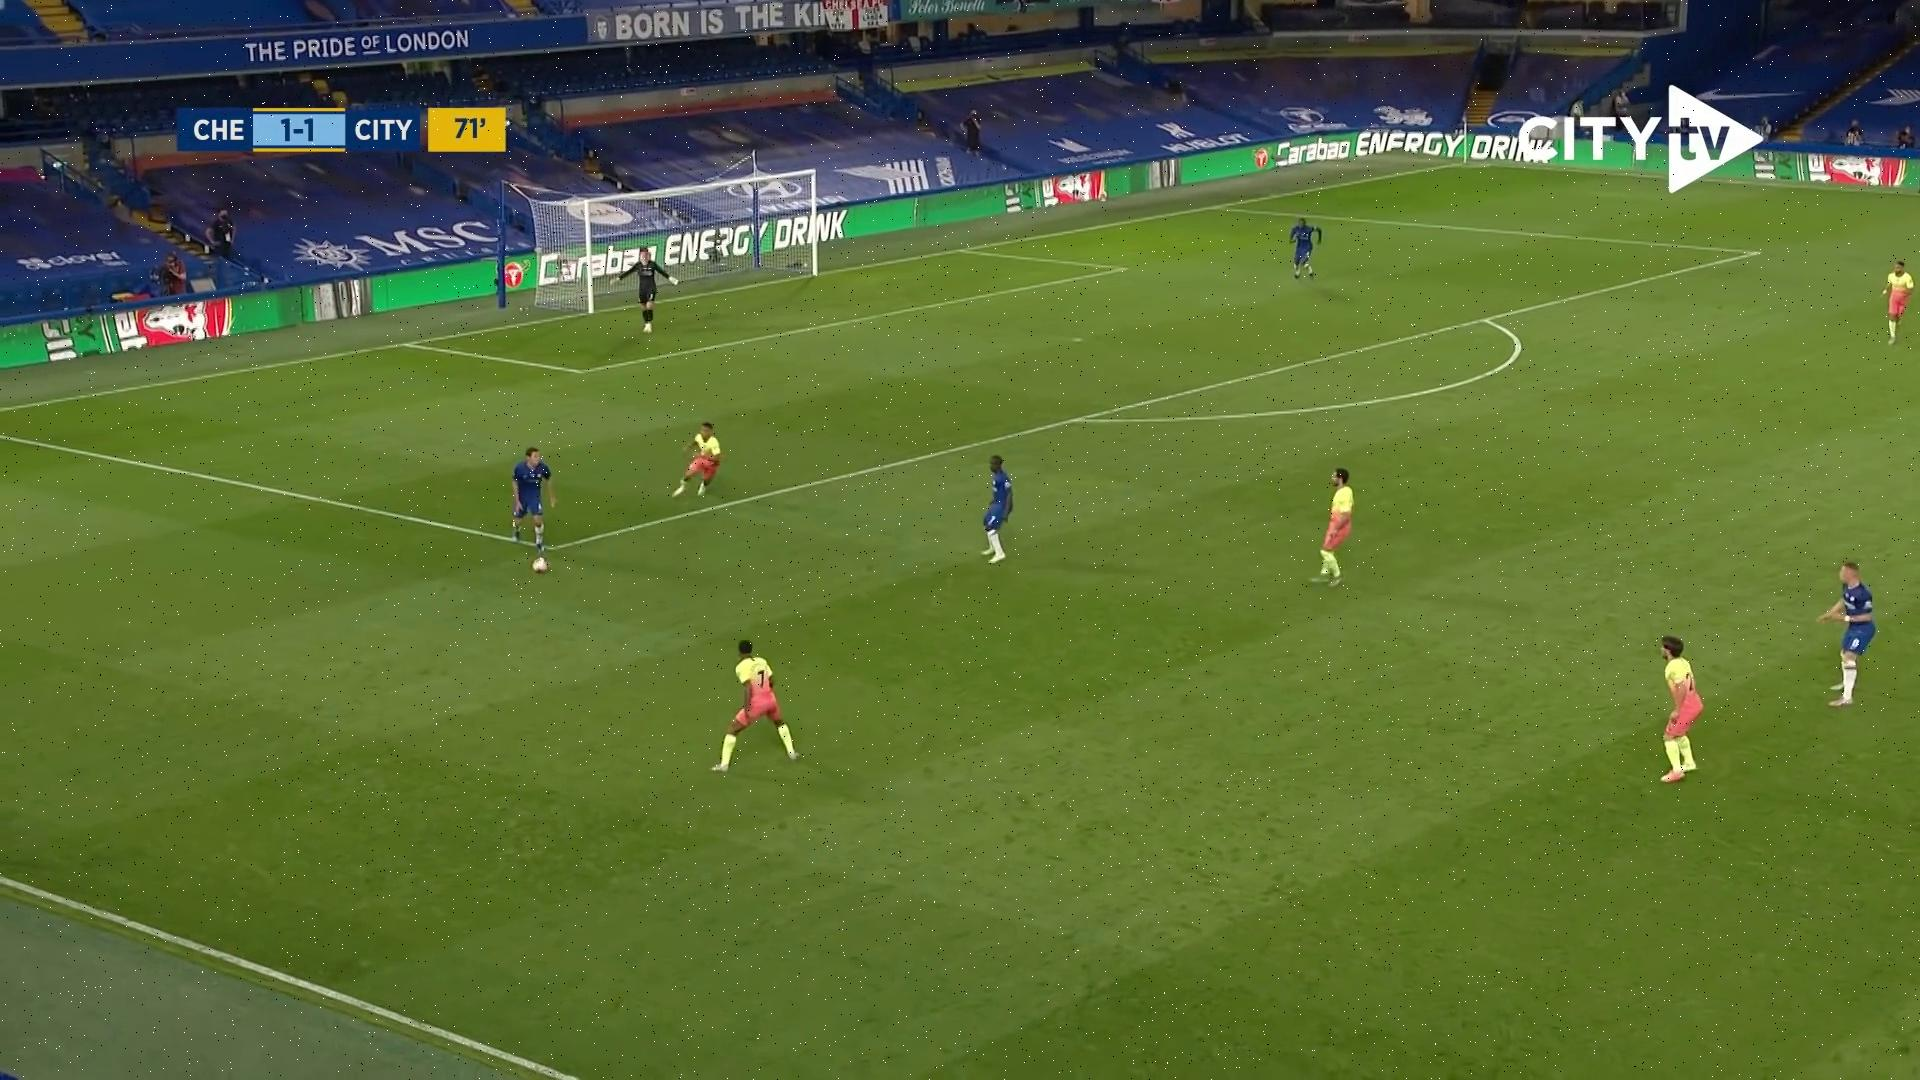ball: (531, 556, 550, 575)
